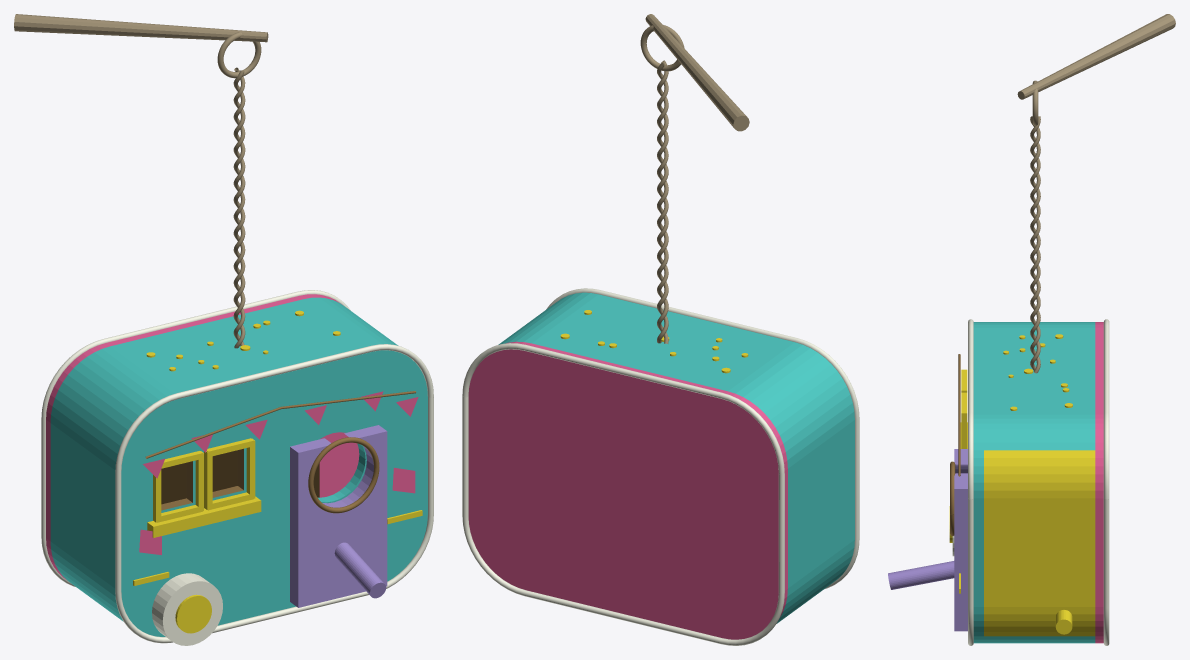
File: birdhouse.glb
3 renders of one model, left to right at view 1: azimuth 30°, elevation 25°; view 2: azimuth 150°, elevation 25°; view 3: azimuth 270°, elevation 25°, orthographic. The views are drawn at different scales.
Visible parts, largest first — view 1: Turquoise front wooden panel, Lavender entry panel, Curved outer shell.012, Curved outer shell.025, White edge piping, Pink rear wooden panel, Tree support branch, White caravan wheel, White edge piping.001, Dark internal rear lining, Window sill, Jute rope strand.001 (+15 smaller); view 2: Pink rear wooden panel, Curved outer shell.012, Curved outer shell.025, White edge piping.001, Turquoise front wooden panel, White edge piping, Tree support branch, Jute rope strand, Jute rope strand.001, Curved outer shell.019, Curved outer shell.018, Curved outer shell.020 (+9 smaller); view 3: Curved outer shell.051, Curved outer shell.012, Turquoise front wooden panel, Pink rear wooden panel, Lavender entry panel, White edge piping.001, Tree support branch, White edge piping, Purple bird perch, Jute rope strand, Jute rope strand.001, Curved outer shell.002 (+18 smaller).
Boxes of the visible parts, box(x1,y1,x2,y2) form: Turquoise front wooden panel: box(111, 342, 427, 636); Lavender entry panel: box(290, 425, 387, 607); Curved outer shell.012: box(110, 299, 363, 390); Curved outer shell.025: box(50, 423, 111, 585); White edge piping: box(115, 344, 433, 643); Pink rear wooden panel: box(46, 294, 359, 579); Tree support branch: box(14, 14, 268, 42); White caravan wheel: box(152, 573, 222, 645); White edge piping.001: box(41, 290, 350, 586); Dark internal rear lining: box(161, 450, 319, 504); Window sill: box(147, 496, 261, 537); Jute rope strand.001: box(233, 70, 245, 348); Pink rear wooden panel: box(468, 341, 787, 639); Curved outer shell.012: box(532, 298, 788, 391); Curved outer shell.025: box(788, 424, 849, 587); White edge piping.001: box(462, 343, 784, 645); Turquoise front wooden panel: box(553, 292, 854, 582); White edge piping: box(546, 288, 859, 588); Tree support branch: box(645, 14, 749, 131); Jute rope strand: box(657, 63, 668, 343); Jute rope strand.001: box(657, 60, 668, 343); Curved outer shell.019: box(770, 375, 836, 427); Curved outer shell.018: box(764, 368, 831, 419); Curved outer shell.020: box(775, 383, 840, 434); Curved outer shell.051: box(984, 498, 1095, 606); Curved outer shell.012: box(984, 327, 1095, 414); Turquoise front wooden panel: box(973, 322, 983, 643); Pink rear wooden panel: box(1095, 322, 1103, 643); Lavender entry panel: box(954, 449, 967, 631); White edge piping.001: box(1103, 319, 1109, 645); Tree support branch: box(1017, 14, 1175, 99); White edge piping: box(968, 319, 973, 645); Purple bird perch: box(888, 561, 954, 589); Jute rope strand: box(1030, 116, 1040, 373); Jute rope strand.001: box(1030, 116, 1040, 370); Curved outer shell.002: box(984, 474, 1095, 482).
Size of the model in its own units: 1.25 by 1.99 by 1.01.
